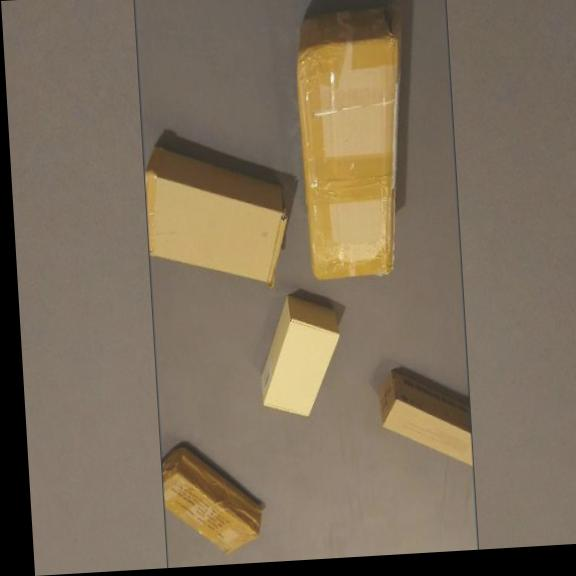Kertas: (296, 9, 399, 278), (146, 146, 285, 286), (162, 444, 261, 553), (261, 295, 338, 415), (379, 371, 471, 464)
